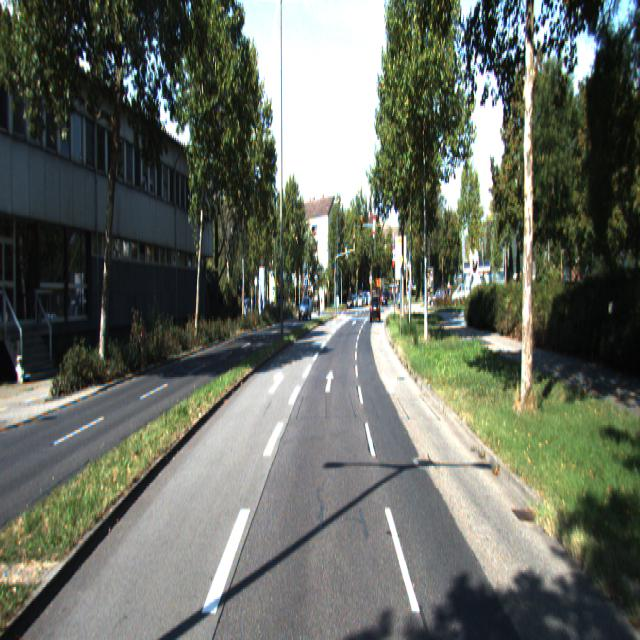Car: (298, 296, 312, 322), (370, 296, 381, 324)
